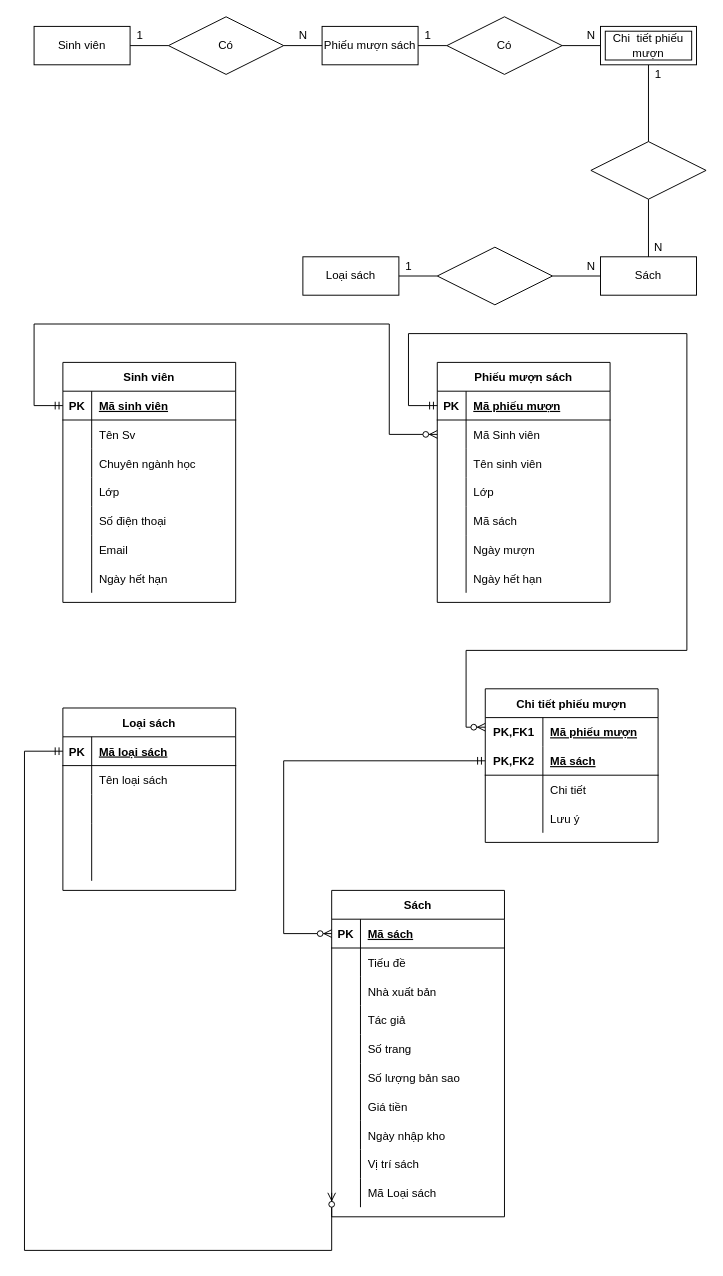
Image size: 723x1276. Some labels were removed from this diagram. Each missing label, with the centre of its shape:
Mượn: (648,170)
Thuộc: (494,275)
